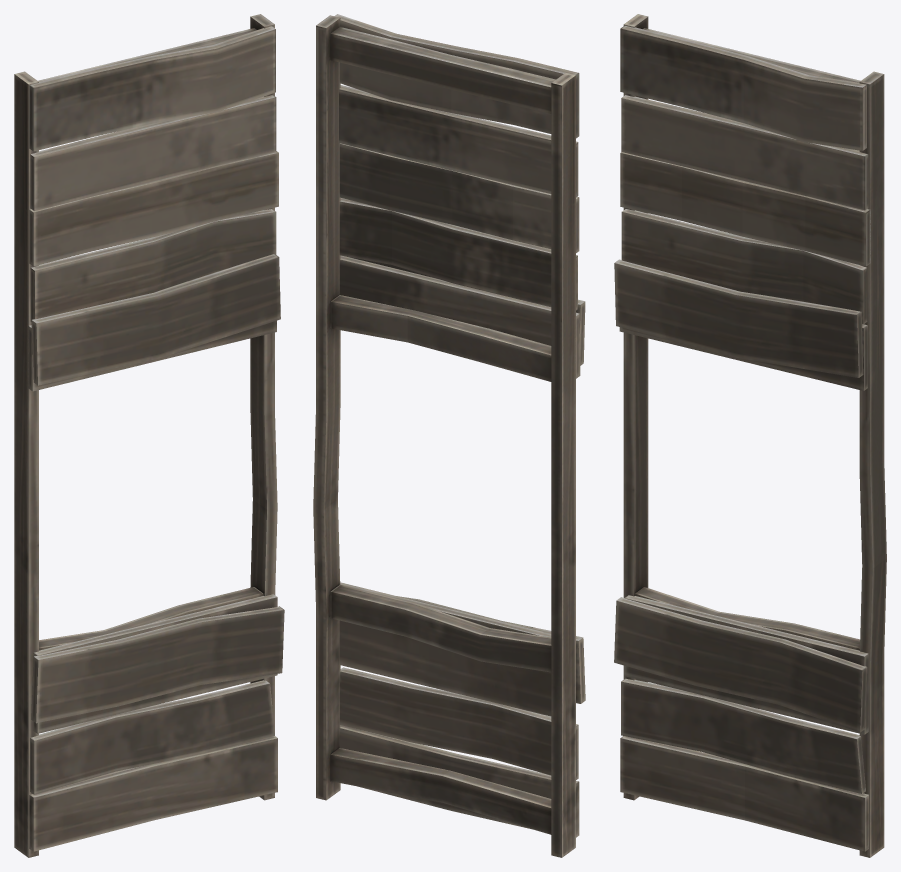
Rendered from Wood_Window_1x.glb.
3 renders of one model, left to right at view 1: azimuth 30°, elevation 25°; view 2: azimuth 150°, elevation 25°; view 3: azimuth 330°, elevation 25°, orthographic.
Visible parts, largest first — view 1: Wood_Window_1x; view 2: Wood_Window_1x; view 3: Wood_Window_1x.
Boxes of the visible parts, x1,y1,x2,y2 form: Wood_Window_1x: (14,14,284,857); Wood_Window_1x: (313,14,585,857); Wood_Window_1x: (614,14,886,857).
Size of what is drawn, in the model's own units: 1.02 by 3 by 0.1604.
Materials: 1 (1 with a texture image).
